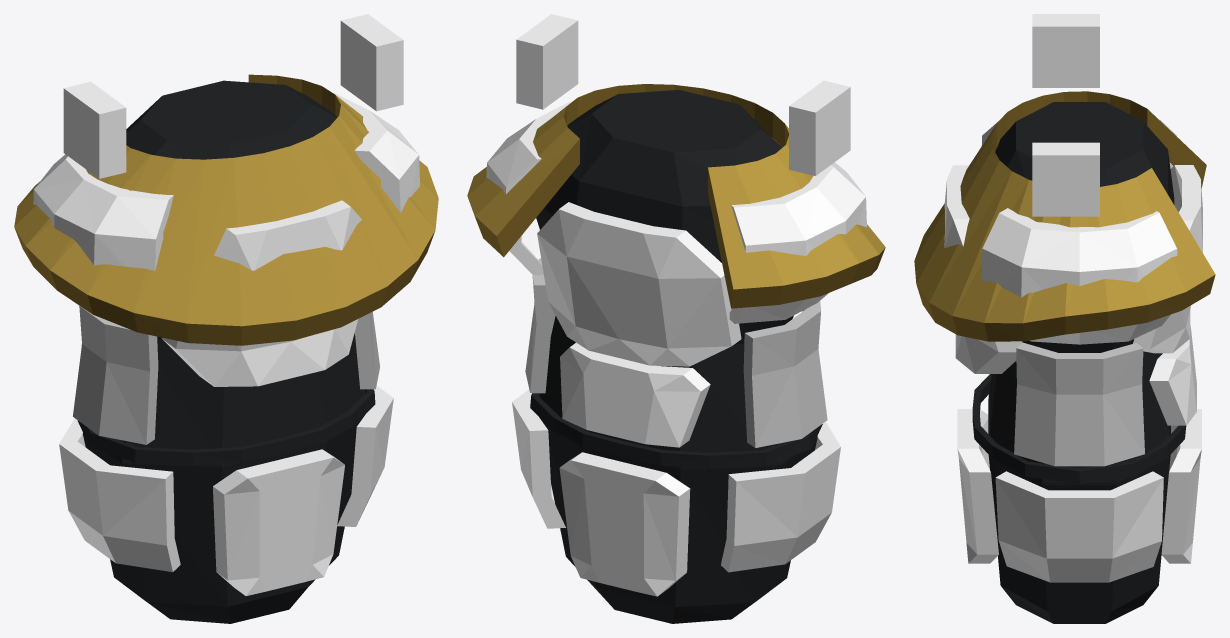
File: person_female_armor_marine_prestige.obj
3 renders of one model, left to right at view 1: azimuth 30°, elevation 25°; view 2: azimuth 150°, elevation 25°; view 3: azimuth 270°, elevation 25°, orthographic. The views are drawn at different scales.
Parts seen in each view (by area): view 1: person_female_armor_marine_prestige, person_female_armor_marine_prestige_addons; view 2: person_female_armor_marine_prestige, person_female_armor_marine_prestige_addons; view 3: person_female_armor_marine_prestige, person_female_armor_marine_prestige_addons.
Boxes of the visible parts, bbox=[...] form: person_female_armor_marine_prestige: bbox=[33, 80, 419, 623]; person_female_armor_marine_prestige_addons: bbox=[14, 14, 438, 345]; person_female_armor_marine_prestige: bbox=[486, 90, 866, 623]; person_female_armor_marine_prestige_addons: bbox=[467, 14, 885, 308]; person_female_armor_marine_prestige: bbox=[944, 102, 1202, 623]; person_female_armor_marine_prestige_addons: bbox=[914, 14, 1215, 341].
Bounding box in the file's own units: 0.6262 × 0.825 × 0.4443.
